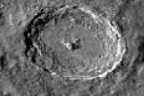crater: (5, 3, 141, 91)
